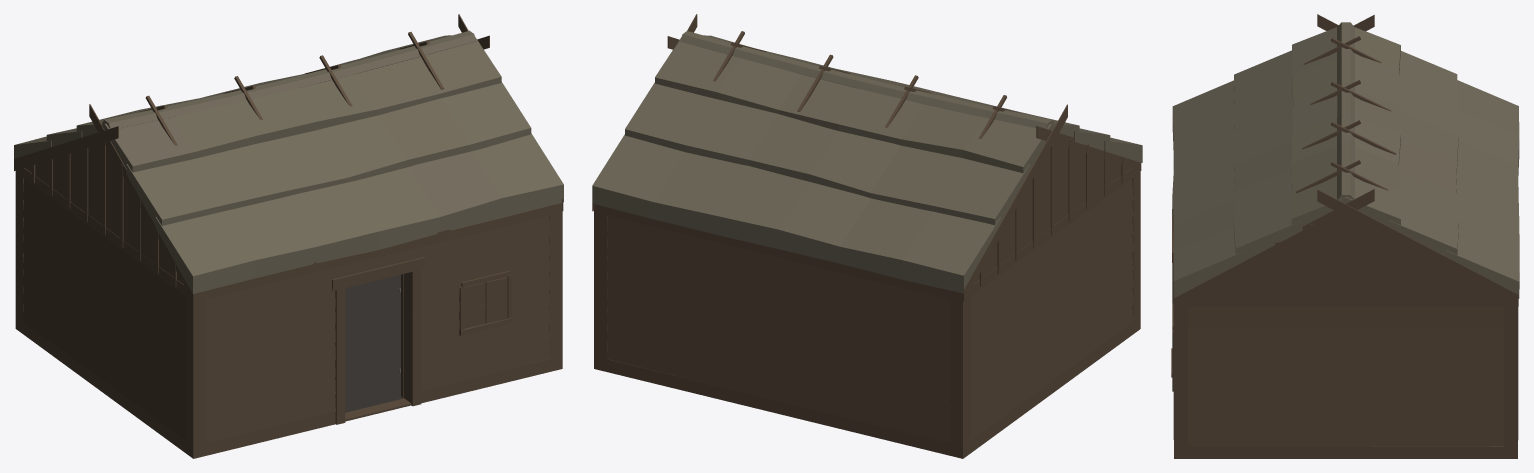
The model's file is house_stub.glb.
The picture shows the model from 3 angles, left to right: view 1: azimuth 30°, elevation 25°; view 2: azimuth 150°, elevation 25°; view 3: azimuth 270°, elevation 25°; orthographic projection. The views are drawn at different scales.
Parts seen in each view (by area): view 1: HouseWalls, HouseRoof; view 2: HouseWalls, HouseRoof; view 3: HouseRoof, HouseWalls.
Part boxes in pixels (box(x1,y1,x2,y2)): HouseWalls: box(15, 142, 562, 458); HouseRoof: box(14, 14, 563, 301); HouseWalls: box(594, 138, 1140, 458); HouseRoof: box(592, 14, 1142, 301); HouseRoof: box(1172, 14, 1519, 306); HouseWalls: box(1171, 209, 1518, 458).
Bounding box in the file's own units: 6.06 × 4.37 × 5.08.
